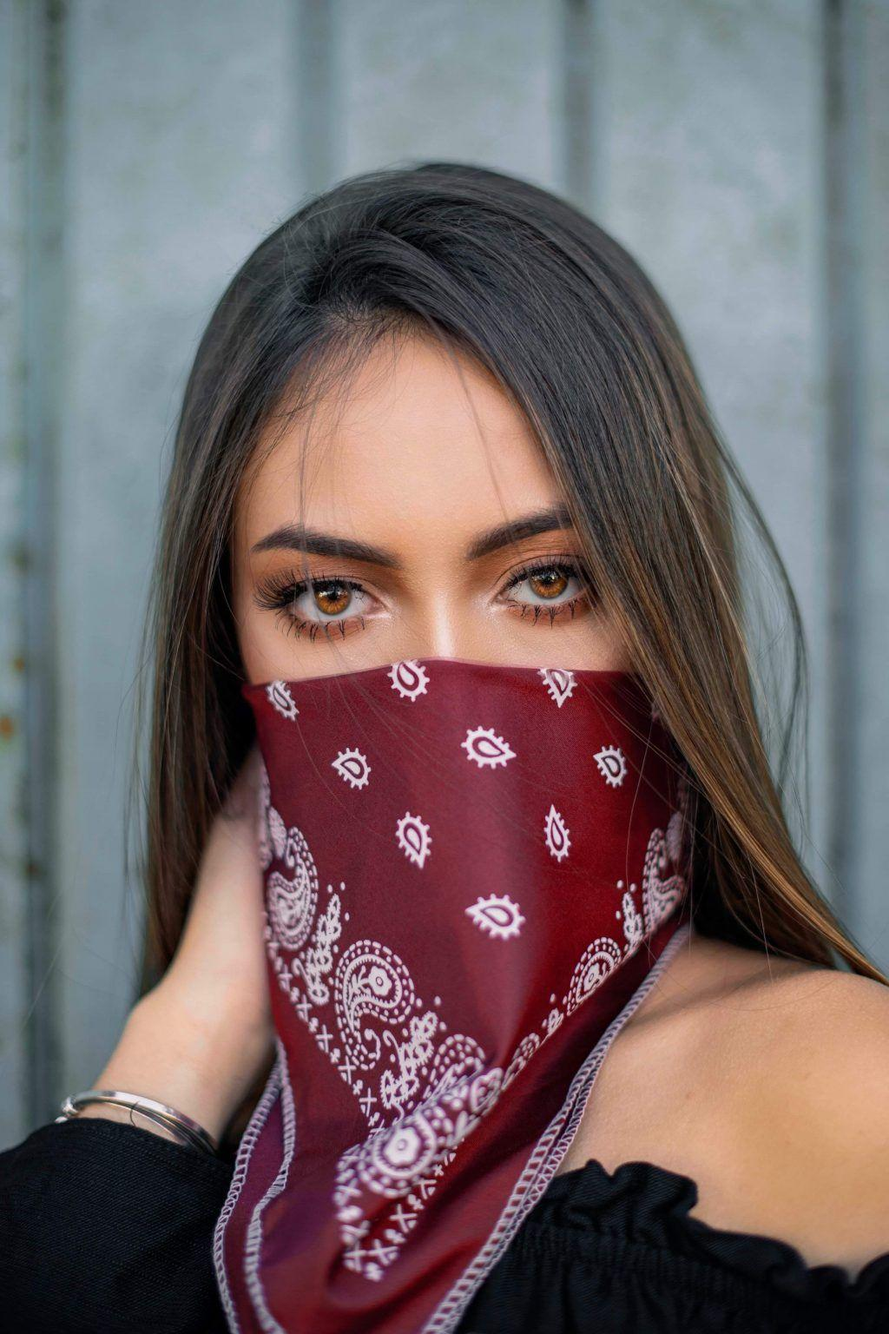mask: (234, 612, 760, 1334)
